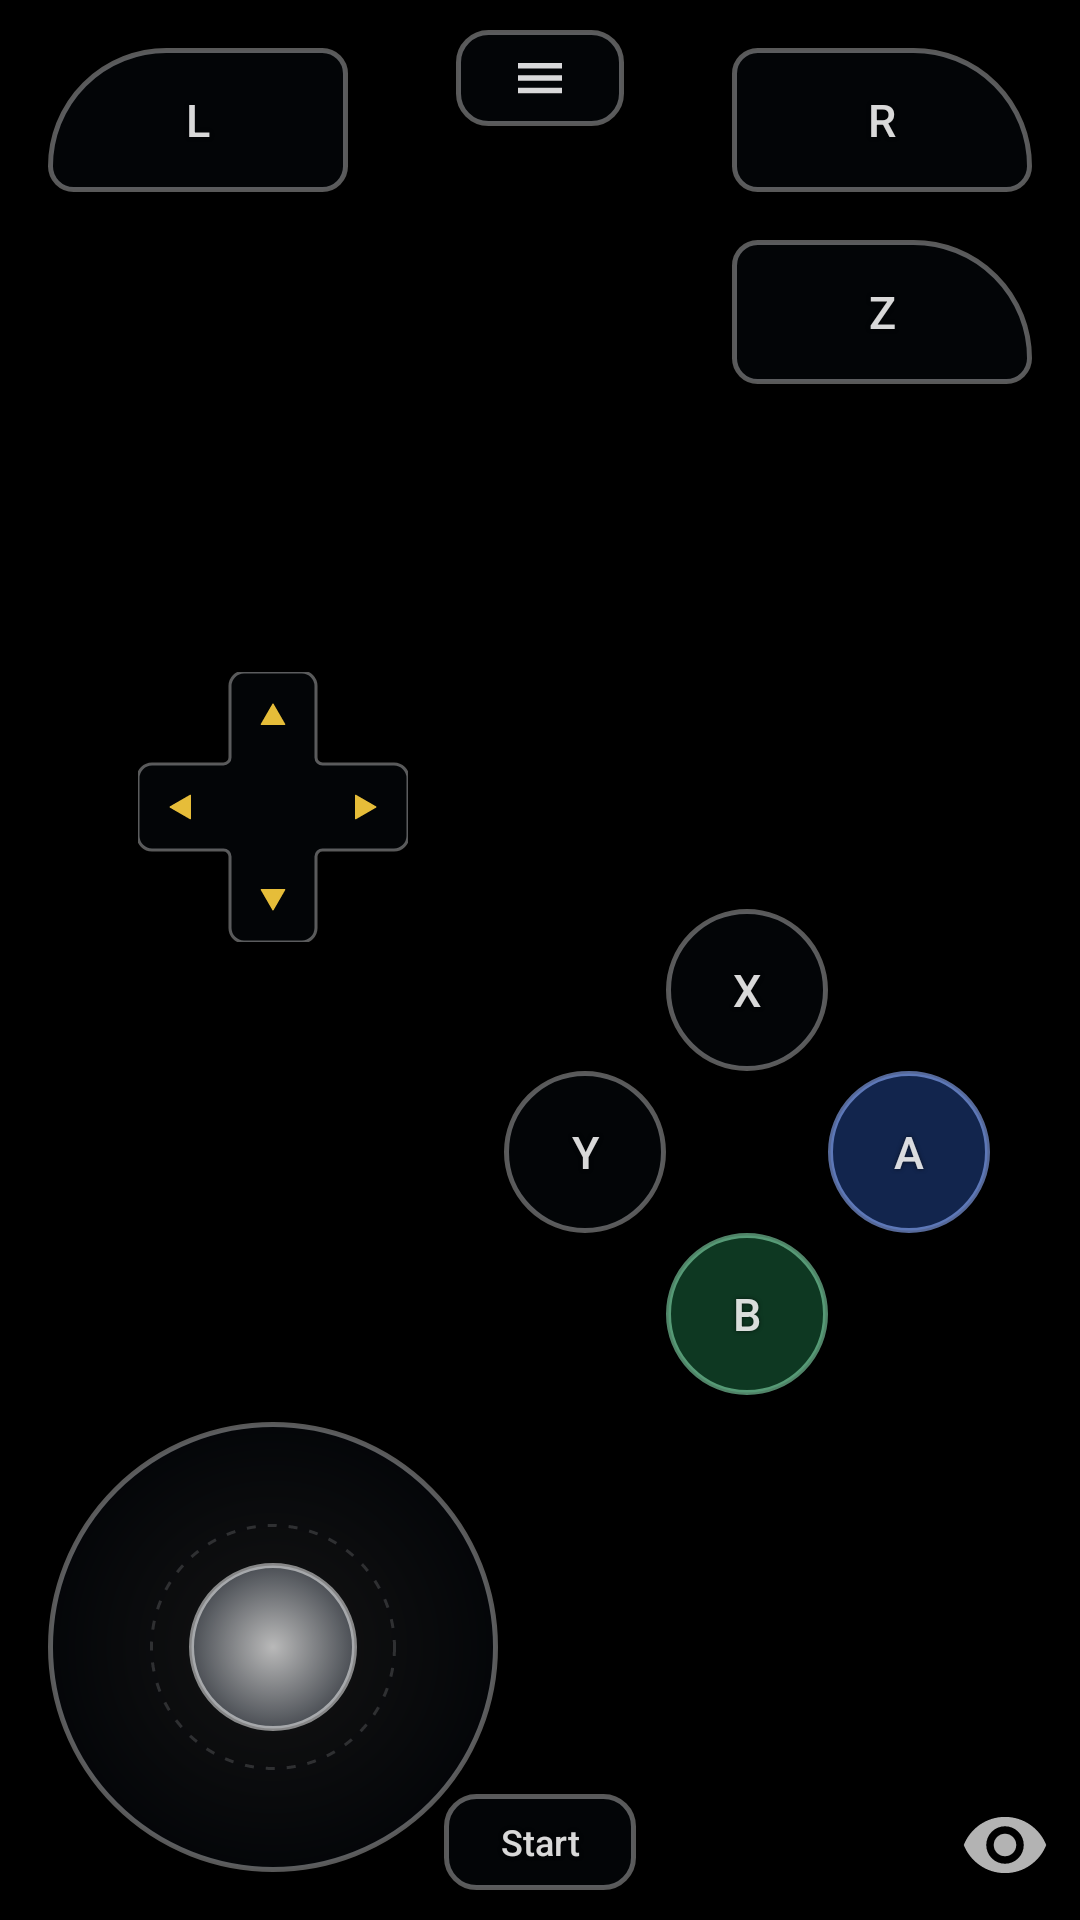

Where icons sit on this 1080 x 1920 app screen, as (left=x1, top=y1, right=x2, bottom=y2):
cross: (left=138, top=672, right=408, bottom=942)
Menu button: (left=456, top=30, right=624, bottom=126)
show: (left=964, top=1817, right=1046, bottom=1873)
stick knob: (left=189, top=1563, right=357, bottom=1731)
